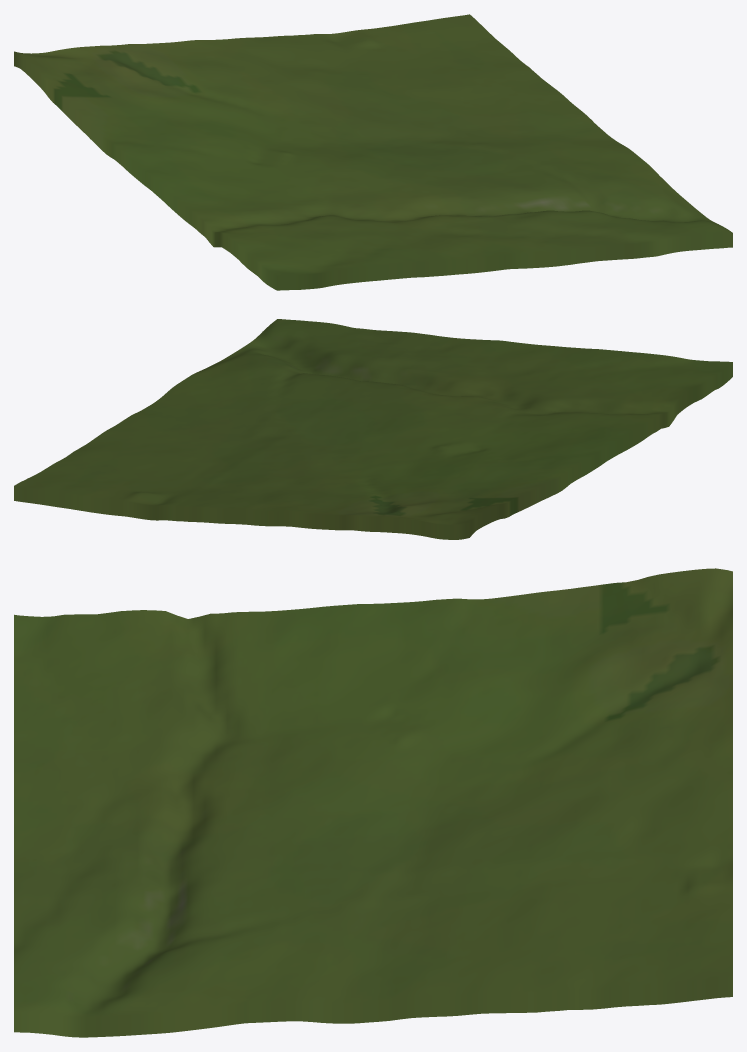
File: terrain_7_-16.glb
3 renders of one model, top to bottom at view 1: azimuth 30°, elevation 25°; view 2: azimuth 150°, elevation 25°; view 3: azimuth 270°, elevation 25°, orthographic. The views are drawn at different scales.
Visible parts, largest first — view 1: terrain_7_-16; view 2: terrain_7_-16; view 3: terrain_7_-16.
Boxes of the visible parts, box(x1,y1,x2,y2) form: terrain_7_-16: box(14, 14, 732, 290); terrain_7_-16: box(14, 319, 732, 539); terrain_7_-16: box(14, 568, 732, 1037).
Bounding box in the file's own units: 256 × 64.91 × 256.
